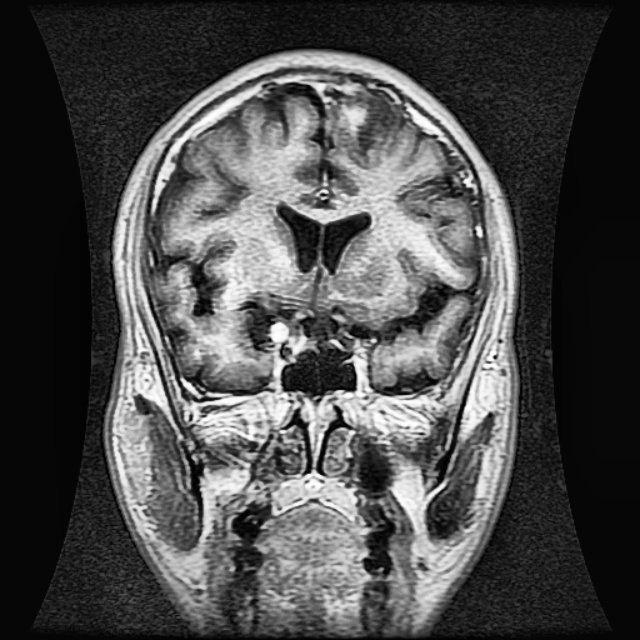Glioma: (320, 83, 402, 167)
